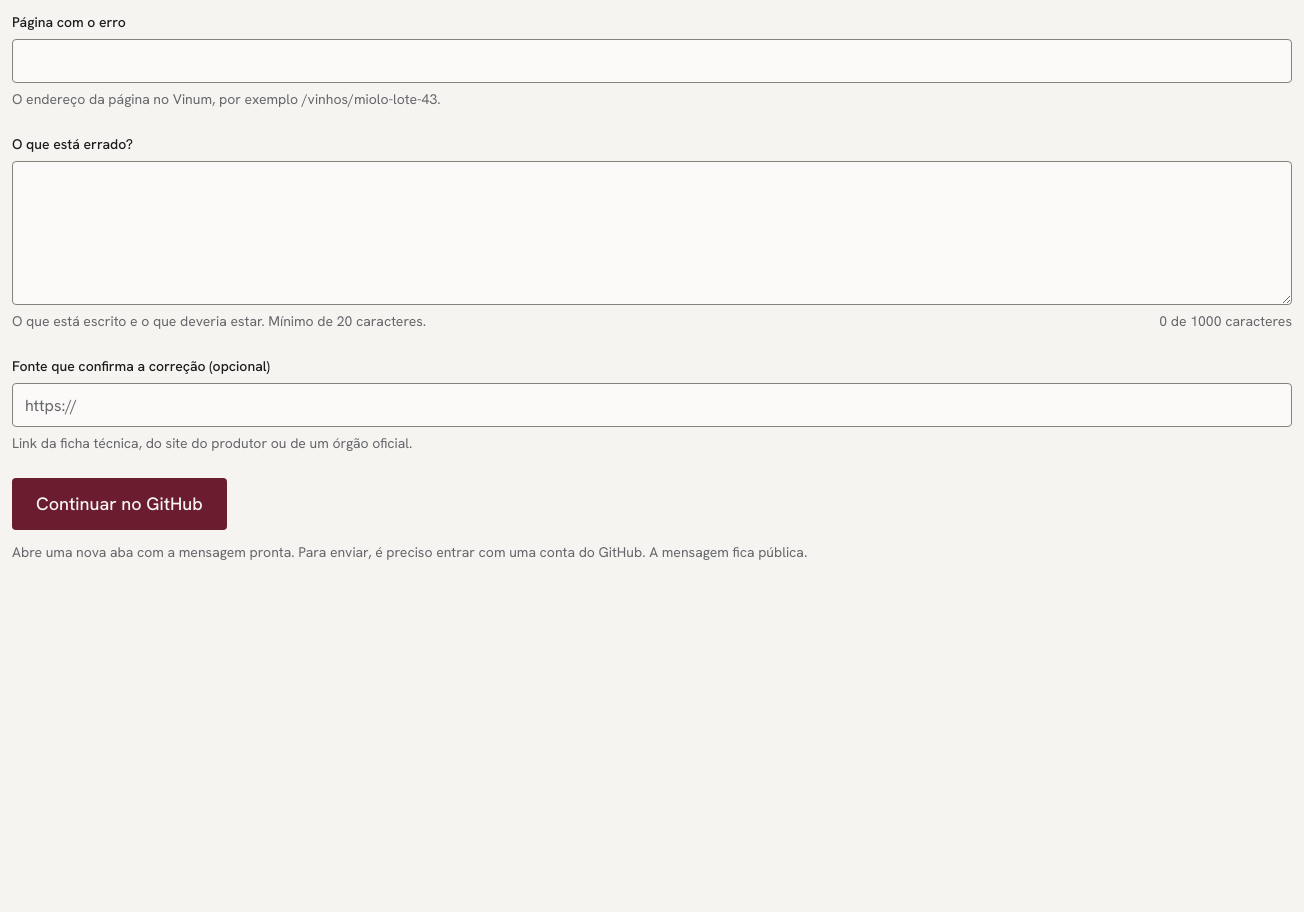
CorrectionForm › nova aba bloqueada: oferece o link em vez de falhar em silêncio
Type "/uvas/uva-exemplo" into the field labelled "Página com o erro" at (652, 61), box [12, 39, 1292, 83]
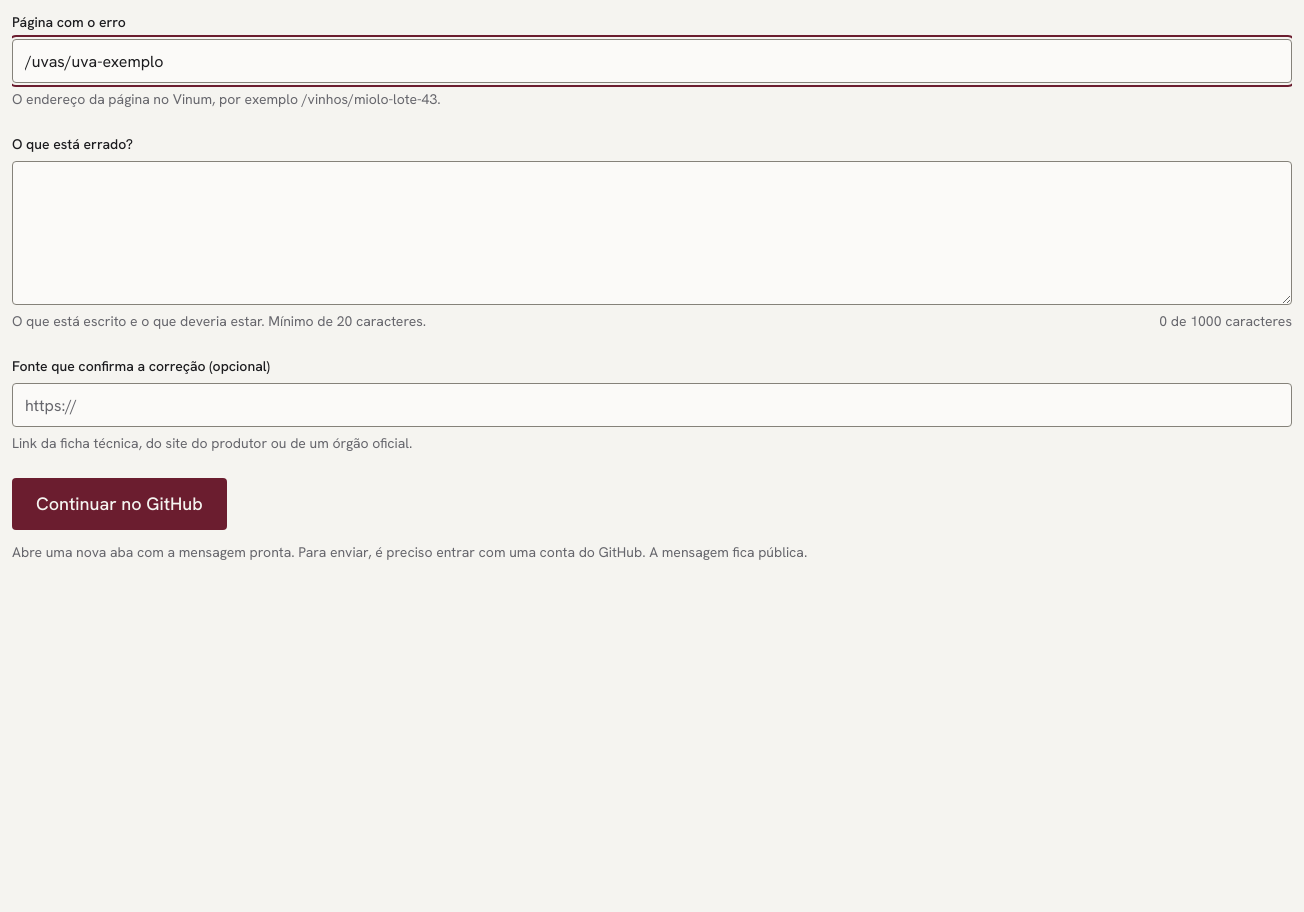
Type "O texto diz safra 2019, mas a ficha técnica diz 2020." into the text box labelled "O que está errado?" at (652, 233), box [12, 161, 1292, 305]
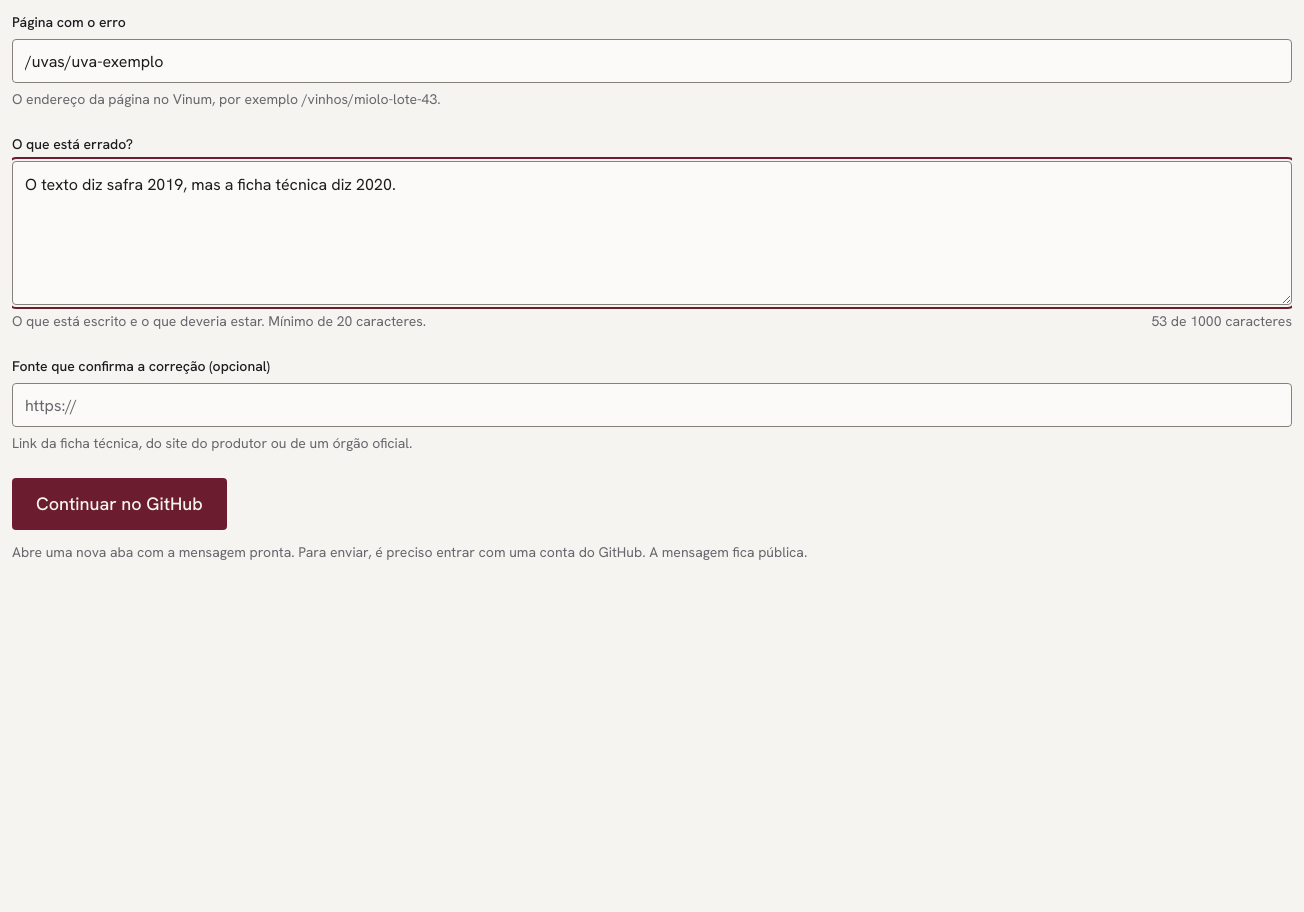
Click the button "Continuar no GitHub" at (119, 504), box [12, 478, 227, 530]
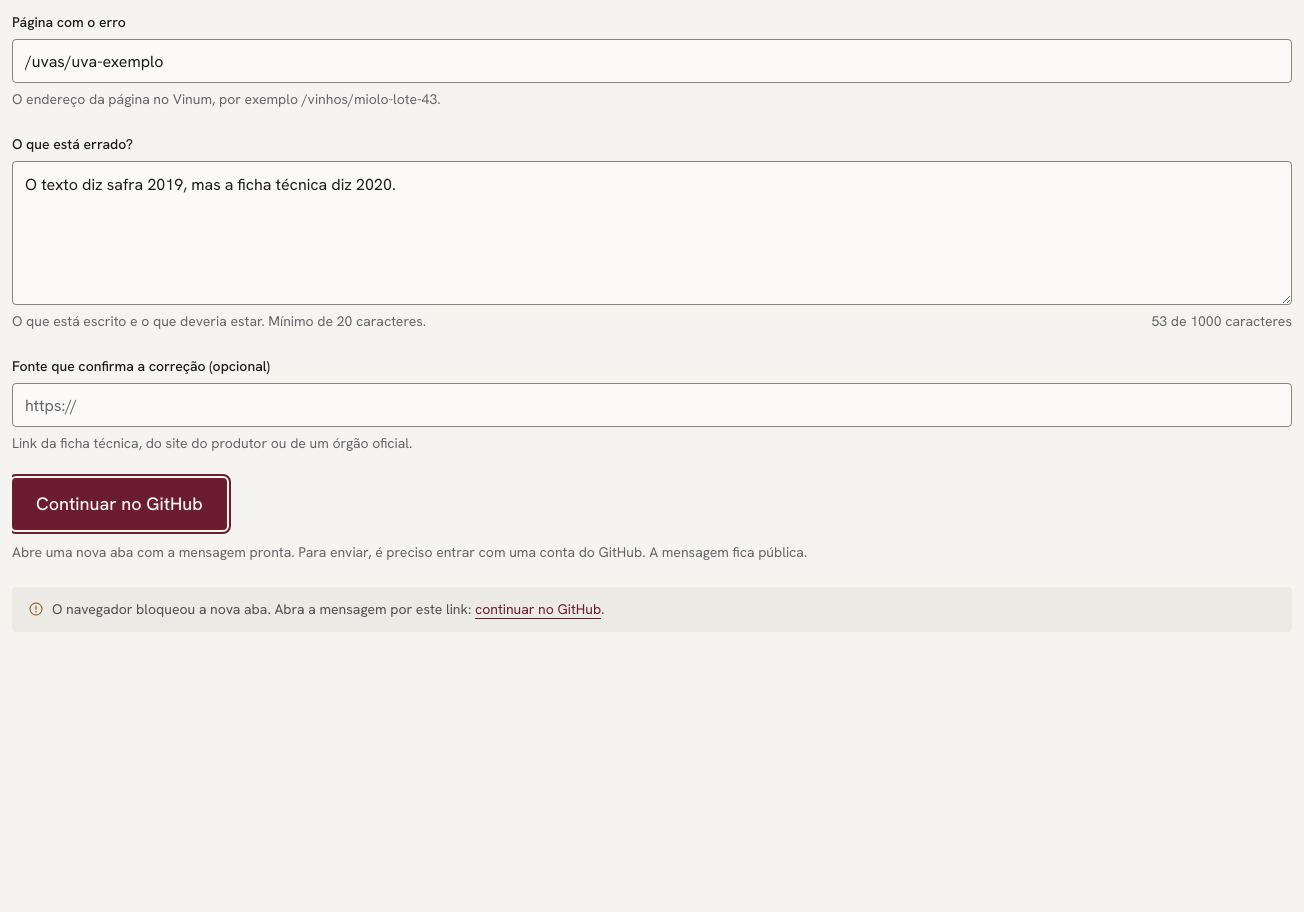
expect the message shows "O navegador bloqueou a nova aba": met, box [52, 600, 471, 618]
